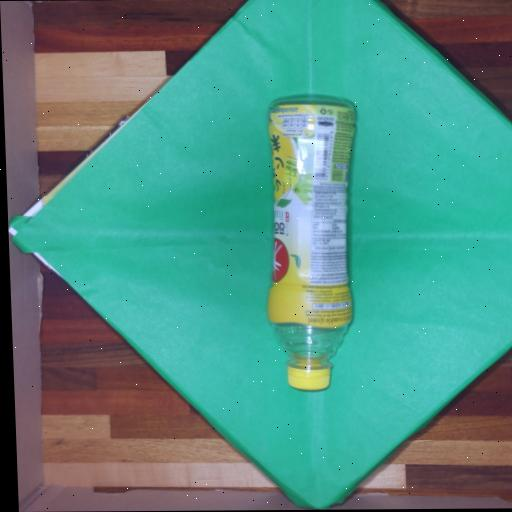bottle: (255, 97, 370, 390)
